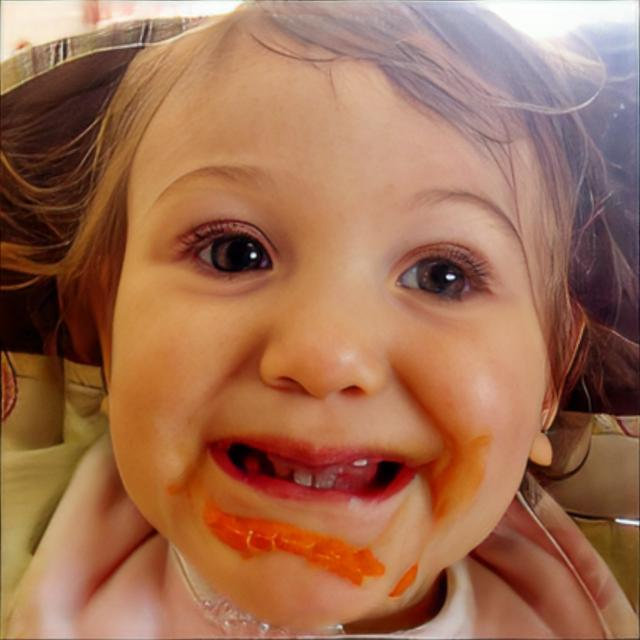surprise: (107, 4, 555, 631)
